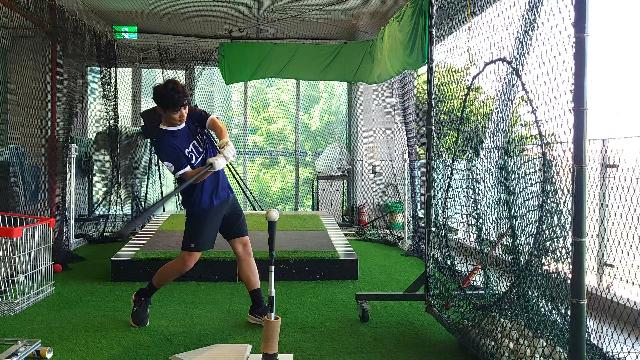bat: (114, 162, 216, 244)
